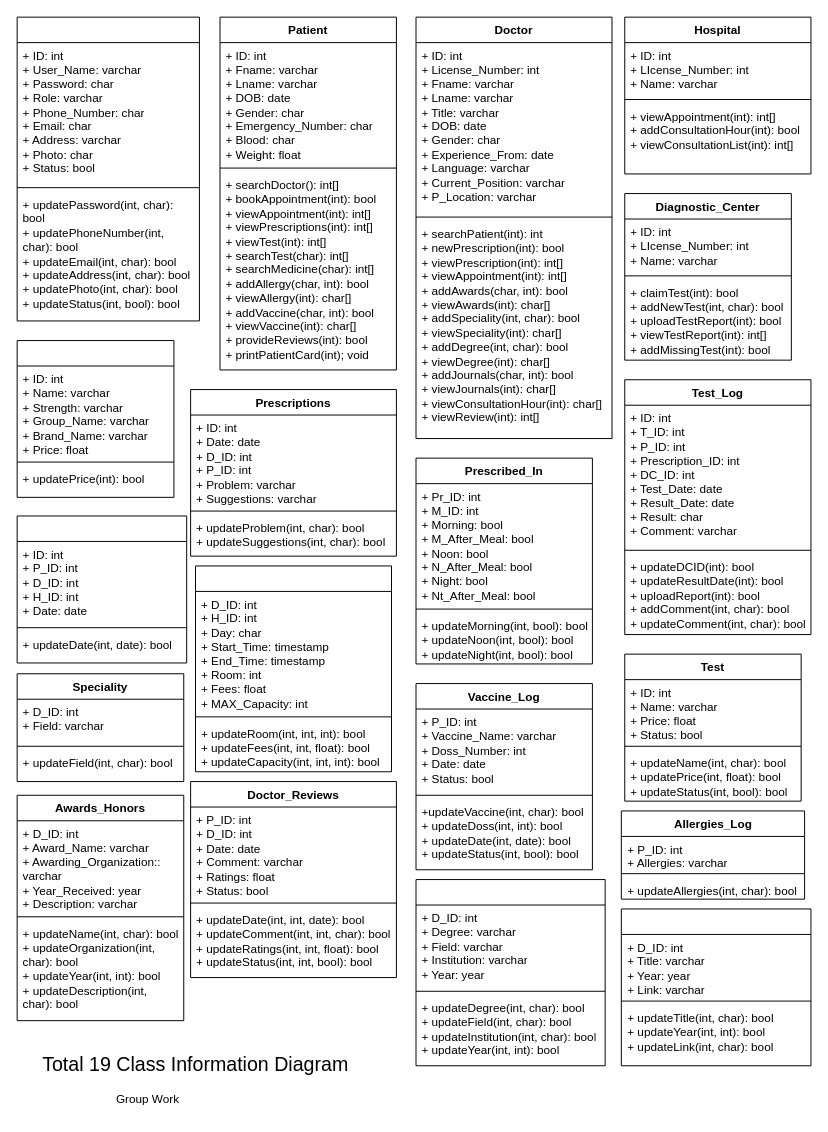
The diagram is 828 pixels wide and 1132 high, and some of its shapes have lost their labels. Each missing label, with the box of its shape:
Appointment: (16, 515, 187, 663)
Consultation: (195, 565, 392, 772)
Degrees: (415, 879, 605, 1066)
Medicine: (16, 340, 174, 497)
Publications: (620, 908, 811, 1066)
User_Details: (16, 16, 199, 321)
